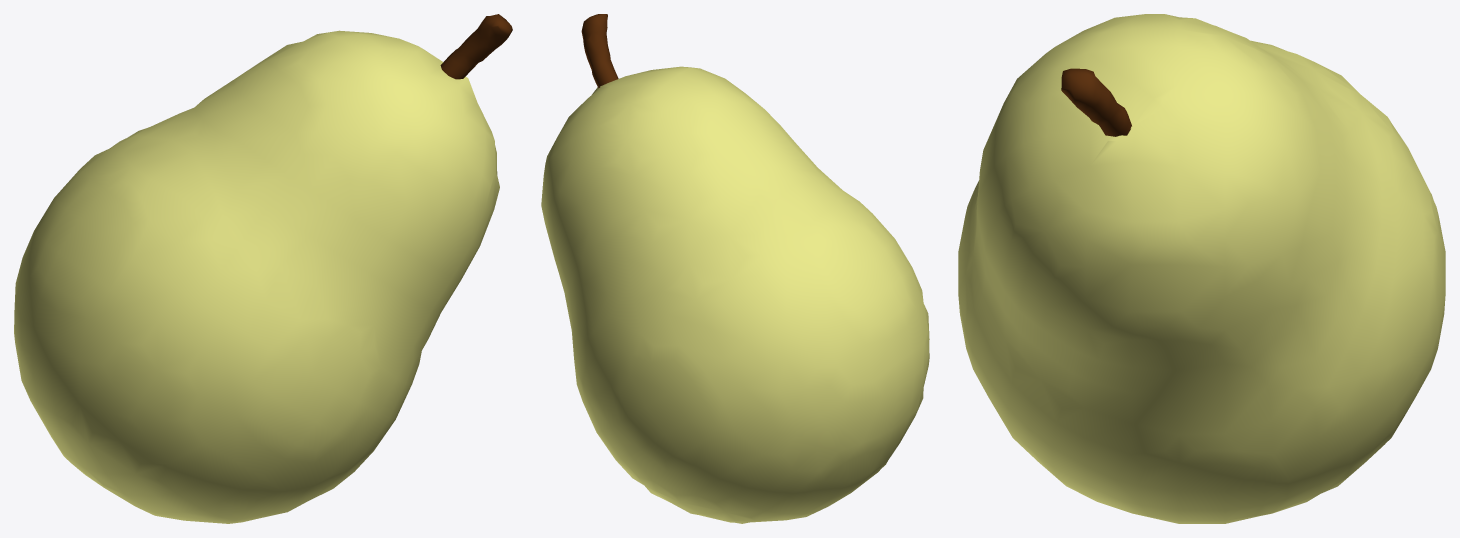
The model's file is pear.glb.
3 views of the same model, side by side, from view 1: azimuth 30°, elevation 25°; view 2: azimuth 150°, elevation 25°; view 3: azimuth 270°, elevation 25° (orthographic). The views are drawn at different scales.
Parts seen in each view (by area): view 1: Sphere_020_Sphere_023; view 2: Sphere_020_Sphere_023; view 3: Sphere_020_Sphere_023.
Boxes of the visible parts, x1,y1,x2,y2 form: Sphere_020_Sphere_023: [14, 14, 512, 523]; Sphere_020_Sphere_023: [541, 14, 929, 523]; Sphere_020_Sphere_023: [958, 14, 1445, 523].
Size of the model in its own units: 1.76 by 1.88 by 1.47.
